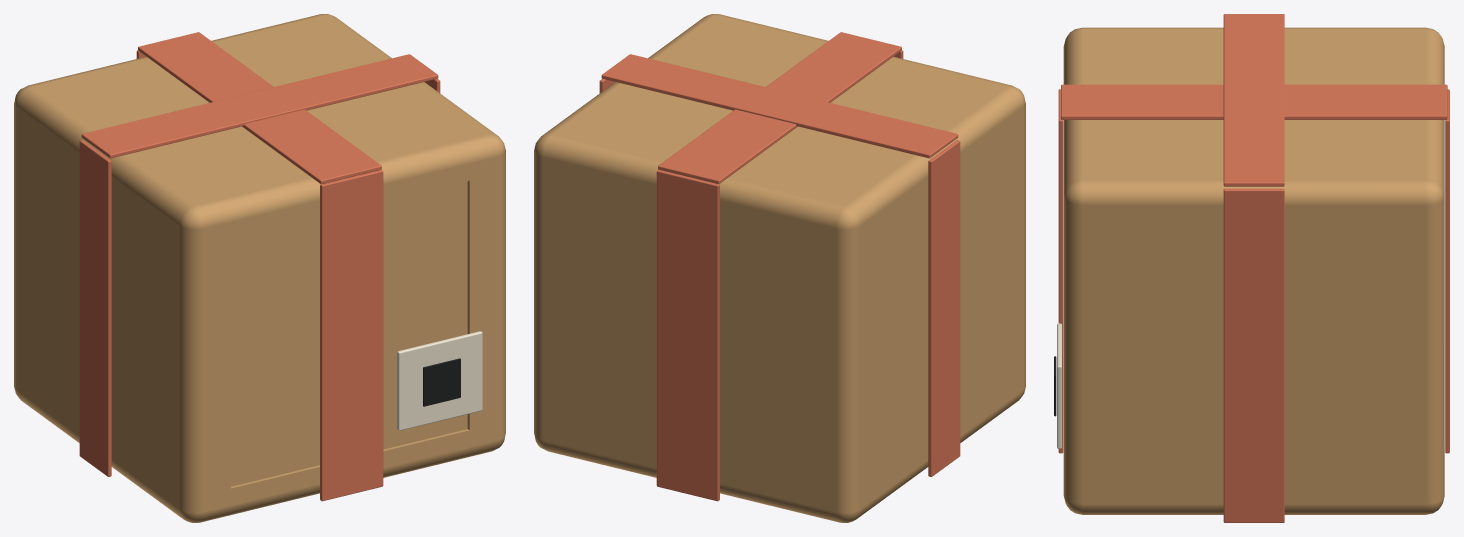
File: play-parcel-small-coral.glb
The picture shows the model from 3 angles, left to right: view 1: azimuth 30°, elevation 25°; view 2: azimuth 150°, elevation 25°; view 3: azimuth 270°, elevation 25°; orthographic projection. The views are drawn at different scales.
Parts seen in each view (by area): view 1: Parcel_Carton, Parcel_Tape_Front_Back_007, Parcel_Tape_Top_Cross, Parcel_Tape_Sides_-00725, Parcel_Tape_Top_Length, Parcel_Paper_Label, Parcel_Label_Square; view 2: Parcel_Carton, Parcel_Tape_Front_Back_-007, Parcel_Tape_Top_Cross, Parcel_Tape_Sides_-00725, Parcel_Tape_Top_Length; view 3: Parcel_Carton, Parcel_Tape_Sides_00725, Parcel_Tape_Top_Length, Parcel_Tape_Top_Cross, Parcel_Tape_Front_Back_-007, Parcel_Tape_Front_Back_007, Parcel_Paper_Label.
Boxes of the visible parts, left/top/right/bottom form: Parcel_Carton: left=14, top=14, right=505, bottom=522; Parcel_Tape_Front_Back_007: left=320, top=170, right=383, bottom=501; Parcel_Tape_Top_Cross: left=81, top=54, right=438, bottom=158; Parcel_Tape_Sides_-00725: left=79, top=140, right=111, bottom=476; Parcel_Tape_Top_Length: left=138, top=32, right=381, bottom=184; Parcel_Paper_Label: left=397, top=331, right=482, bottom=430; Parcel_Label_Square: left=423, top=358, right=460, bottom=406; Parcel_Carton: left=534, top=14, right=1025, bottom=522; Parcel_Tape_Front_Back_-007: left=656, top=170, right=719, bottom=501; Parcel_Tape_Top_Cross: left=601, top=54, right=958, bottom=158; Parcel_Tape_Sides_-00725: left=928, top=140, right=960, bottom=476; Parcel_Tape_Top_Length: left=658, top=32, right=901, bottom=184; Parcel_Carton: left=1063, top=27, right=1444, bottom=514; Parcel_Tape_Sides_00725: left=1223, top=188, right=1284, bottom=522; Parcel_Tape_Top_Length: left=1061, top=84, right=1447, bottom=119; Parcel_Tape_Top_Cross: left=1223, top=14, right=1284, bottom=186; Parcel_Tape_Front_Back_-007: left=1445, top=89, right=1449, bottom=453; Parcel_Tape_Front_Back_007: left=1058, top=89, right=1063, bottom=453; Parcel_Paper_Label: left=1057, top=323, right=1061, bottom=448.
Bounding box in the file's own units: 0.1487 × 0.1377 × 0.1454.
